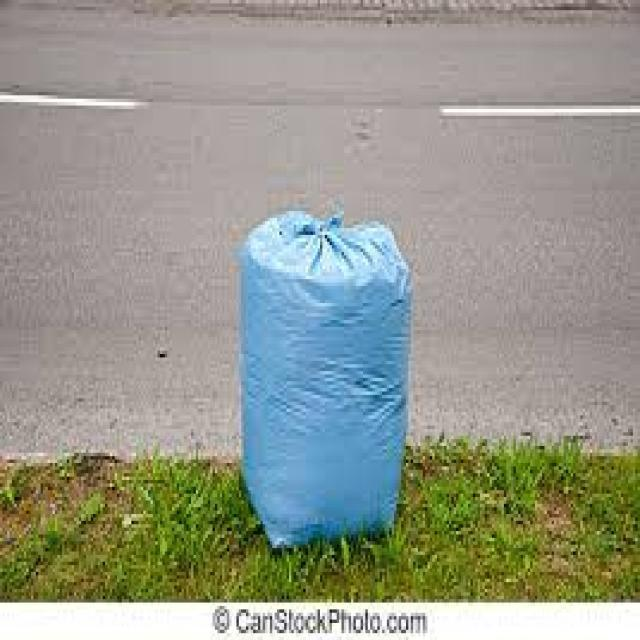Garbage_Bag: (229, 204, 425, 558)
